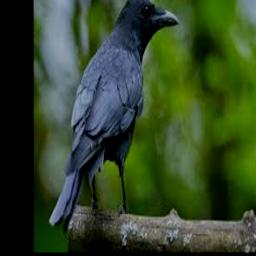Crow: (49, 0, 179, 233)
